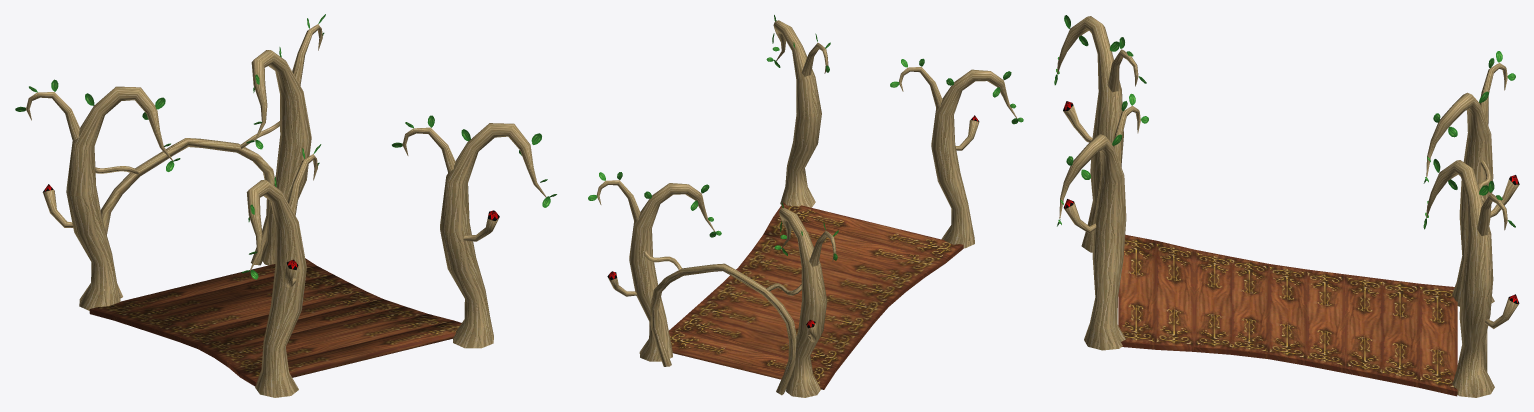
File: EKH_ENTRANCE_PS_EN_BRIDGE_4746__GX.obj
The picture shows the model from 3 angles, left to right: view 1: azimuth 30°, elevation 25°; view 2: azimuth 150°, elevation 25°; view 3: azimuth 270°, elevation 25°; orthographic projection. The views are drawn at different scales.
Visible parts, largest first — view 1: Bridge_4746__GX; view 2: Bridge_4746__GX; view 3: Bridge_4746__GX.
Boxes of the visible parts, left/top/right/bottom form: Bridge_4746__GX: left=15, top=14, right=556, bottom=397; Bridge_4746__GX: left=588, top=15, right=1023, bottom=397; Bridge_4746__GX: left=1054, top=15, right=1519, bottom=397.
Bounding box in the file's own units: 642 × 545 × 817.
